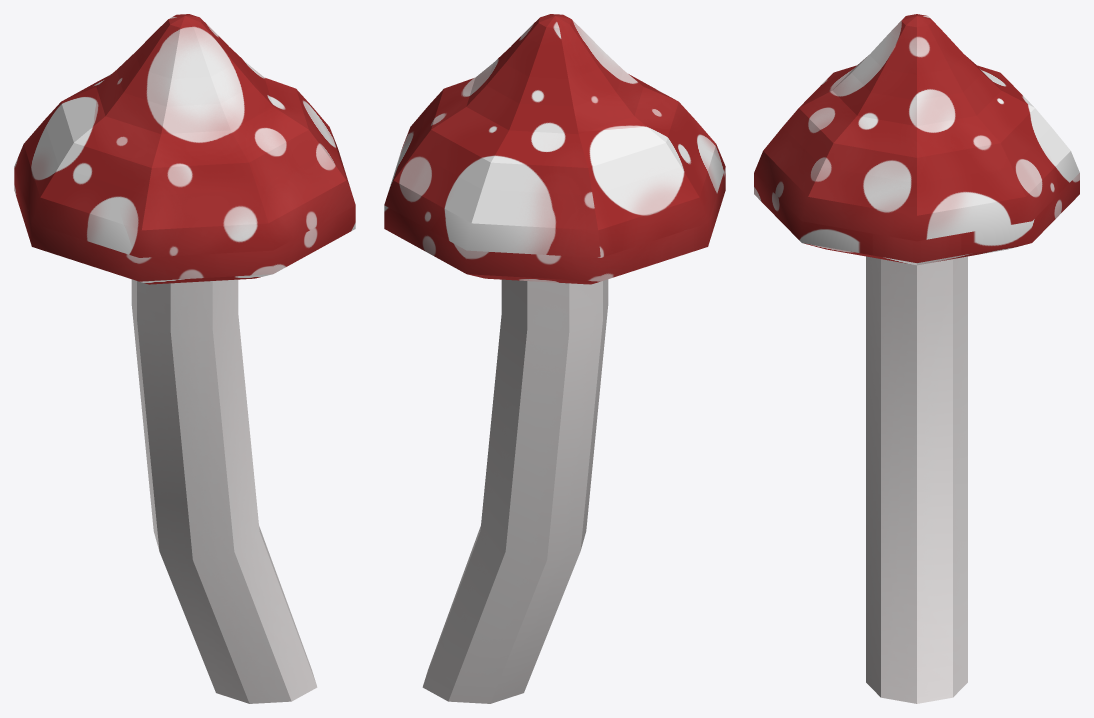
File: Mushroom 3.FBX
The picture shows the model from 3 angles, left to right: view 1: azimuth 30°, elevation 25°; view 2: azimuth 150°, elevation 25°; view 3: azimuth 270°, elevation 25°; orthographic projection. The views are drawn at different scales.
Parts seen in each view (by area): view 1: Cylinder006; view 2: Cylinder006; view 3: Cylinder006.
Part boxes in pixels (x1,y1,x2,y2): Cylinder006: (14,14,355,703); Cylinder006: (384,14,725,703); Cylinder006: (754,14,1079,703).
Bounding box in the file's own units: 3.41 × 7.29 × 3.41.
